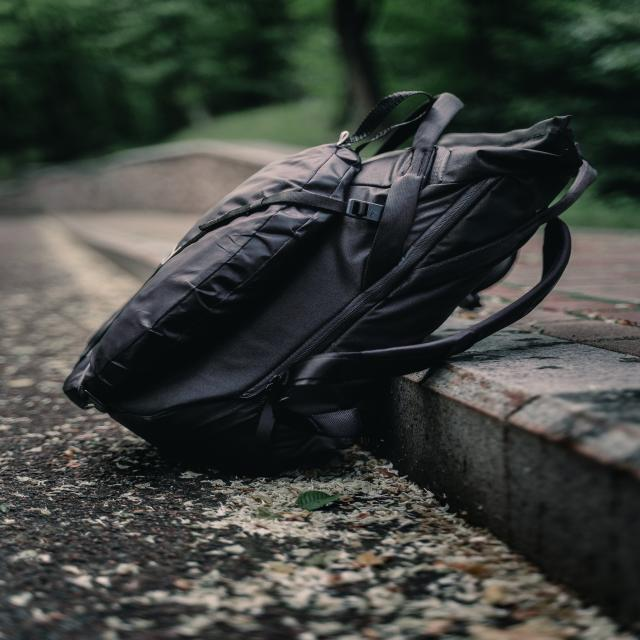backpack: (64, 84, 594, 474)
